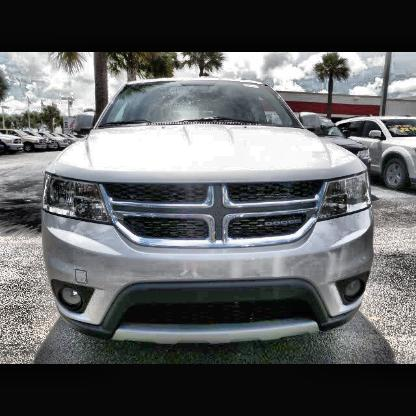Dodge Journey SUV 2012: (44, 78, 375, 342)
